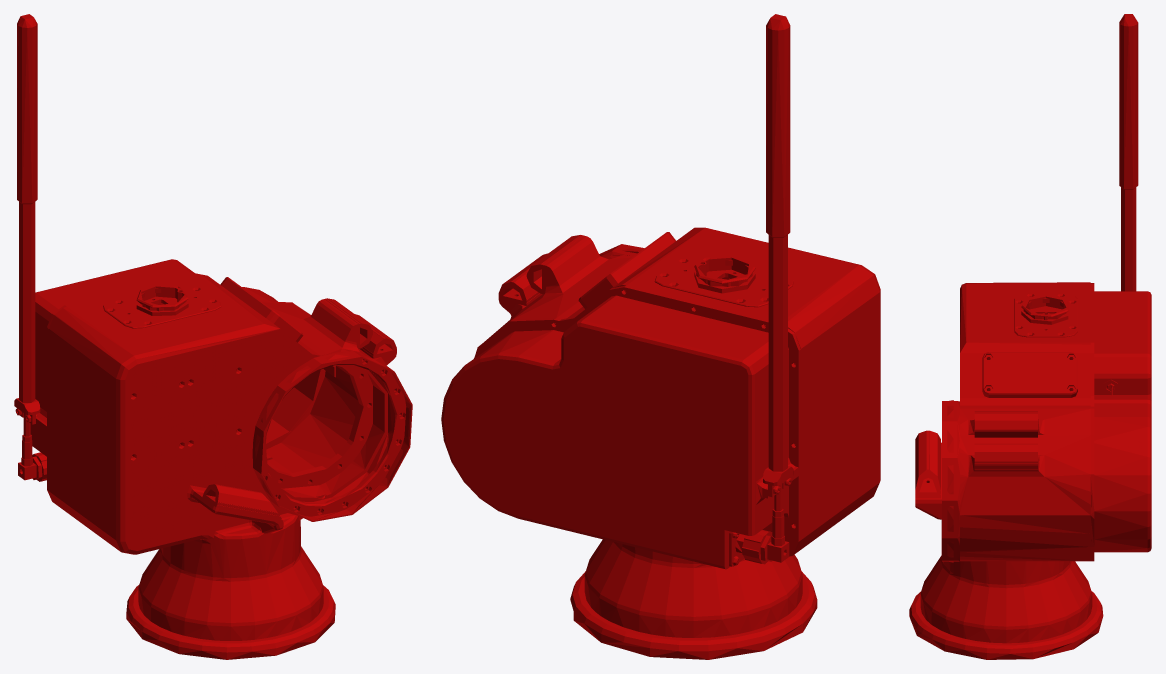
File: arm_link_0.dae
3 renders of one model, left to right at view 1: azimuth 30°, elevation 25°; view 2: azimuth 150°, elevation 25°; view 3: azimuth 270°, elevation 25°, orthographic. The views are drawn at different scales.
Parts seen in each view (by area): view 1: Arm_Link_0; view 2: Arm_Link_0; view 3: Arm_Link_0.
Part boxes in pixels (box(x1,y1,x2,y2)): Arm_Link_0: box(14, 14, 412, 659); Arm_Link_0: box(441, 14, 880, 659); Arm_Link_0: box(909, 14, 1151, 659).
Bounding box in the file's own units: 249 × 190 × 470.
